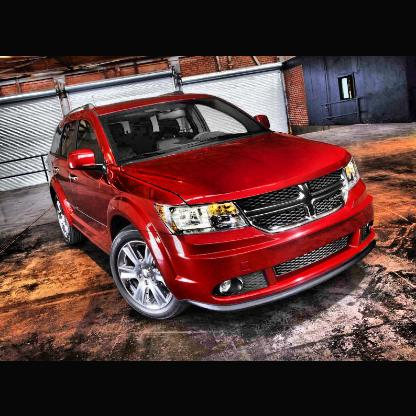Dodge Caliber Wagon 2012: (48, 90, 378, 319)
